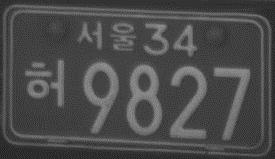2: (166, 64, 208, 141)
3: (142, 20, 170, 57)
4: (172, 23, 199, 58)
7: (210, 65, 253, 143)
8: (125, 63, 164, 137)
9: (82, 59, 120, 135)
서울_O: (77, 20, 138, 52)
허: (23, 56, 67, 108)
